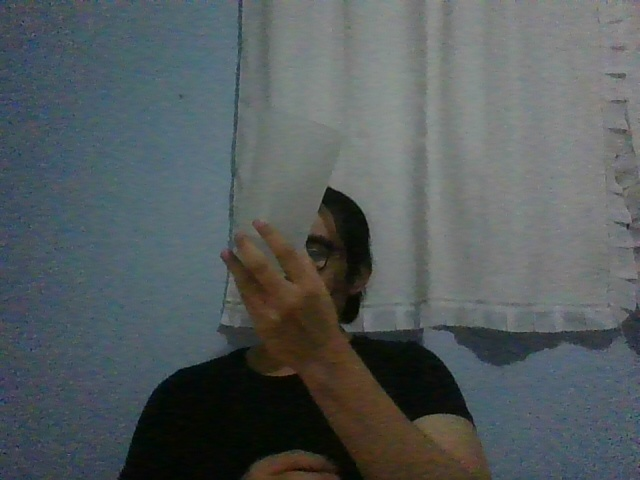vaso: (237, 110, 345, 273)
